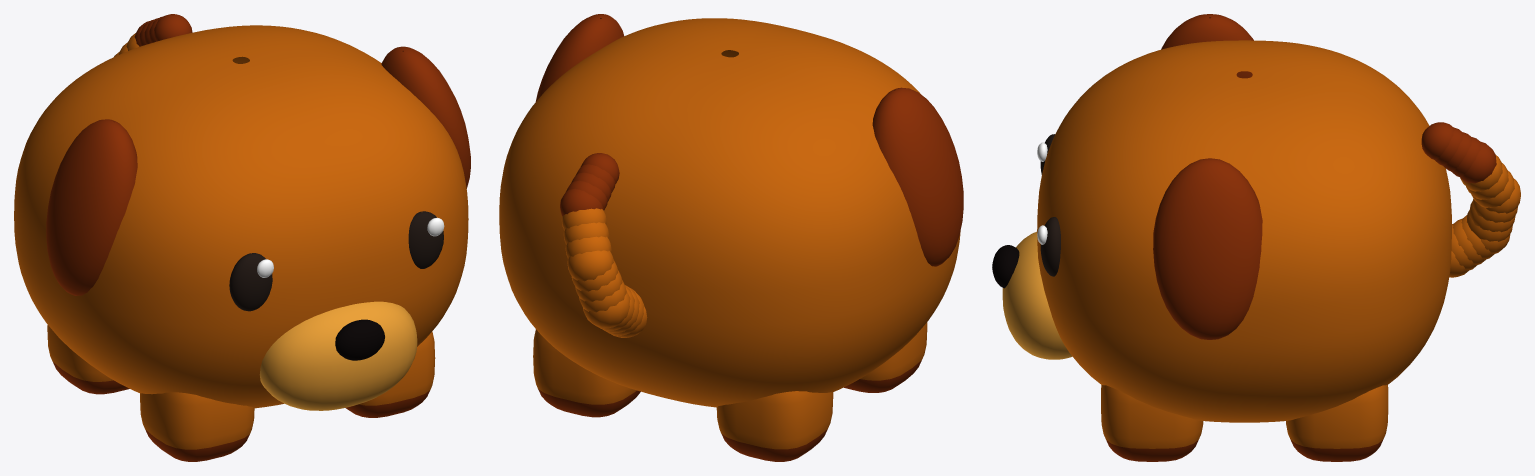
Rendered from dog.fbx.
3 renders of one model, left to right at view 1: azimuth 30°, elevation 25°; view 2: azimuth 150°, elevation 25°; view 3: azimuth 270°, elevation 25°, orthographic.
Parts seen in each view (by area): view 1: dog; view 2: dog; view 3: dog.
Part boxes in pixels (x1=…): dog: x1=14, y1=14, x2=470, y2=461; dog: x1=499, y1=14, x2=963, y2=461; dog: x1=992, y1=14, x2=1520, y2=461.
Bounding box in the file's own units: 4.04 × 3.2 × 4.59.
